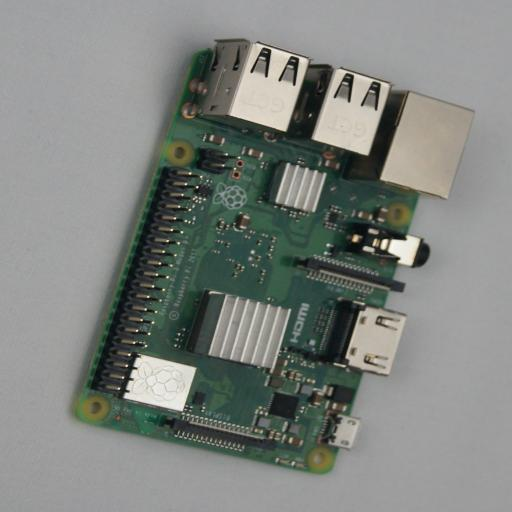Raspberry Pi 3 B-: (71, 38, 446, 474)
